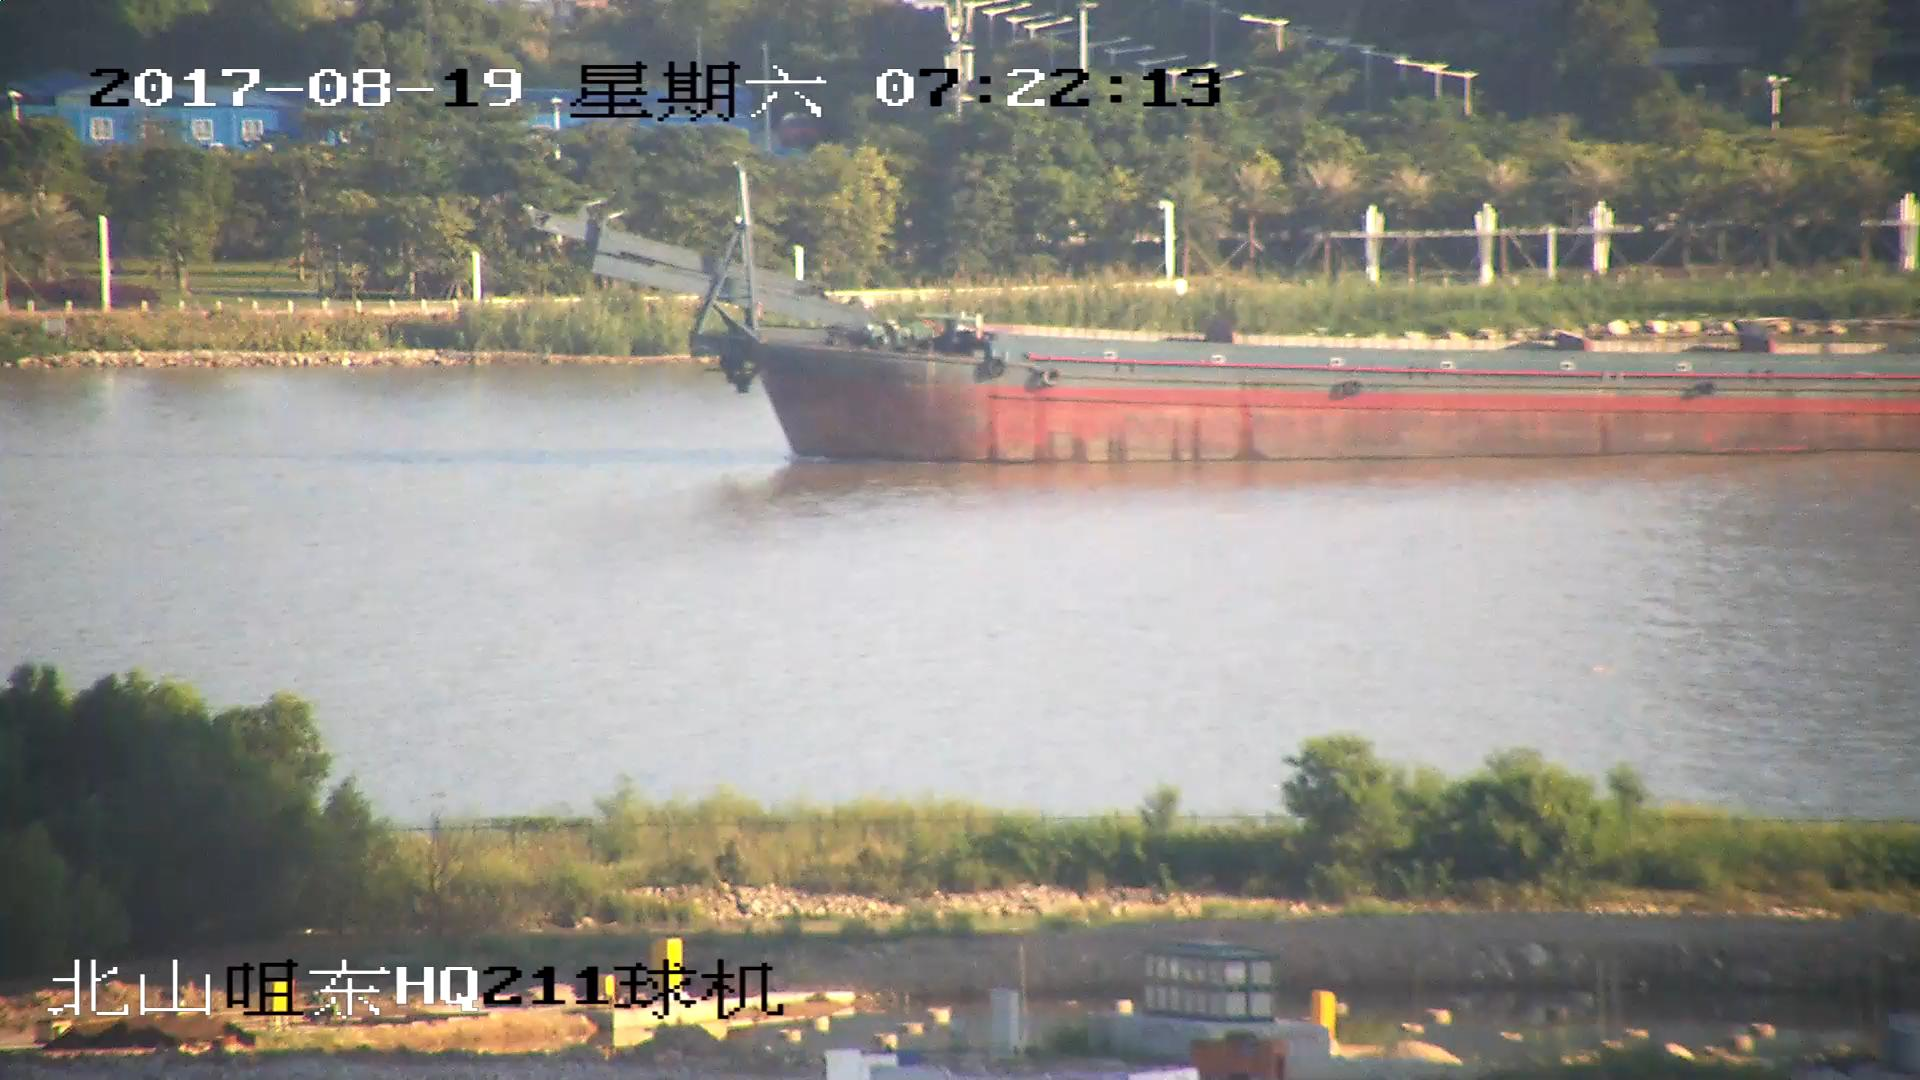bulk cargo carrier: (534, 162, 1920, 467)
